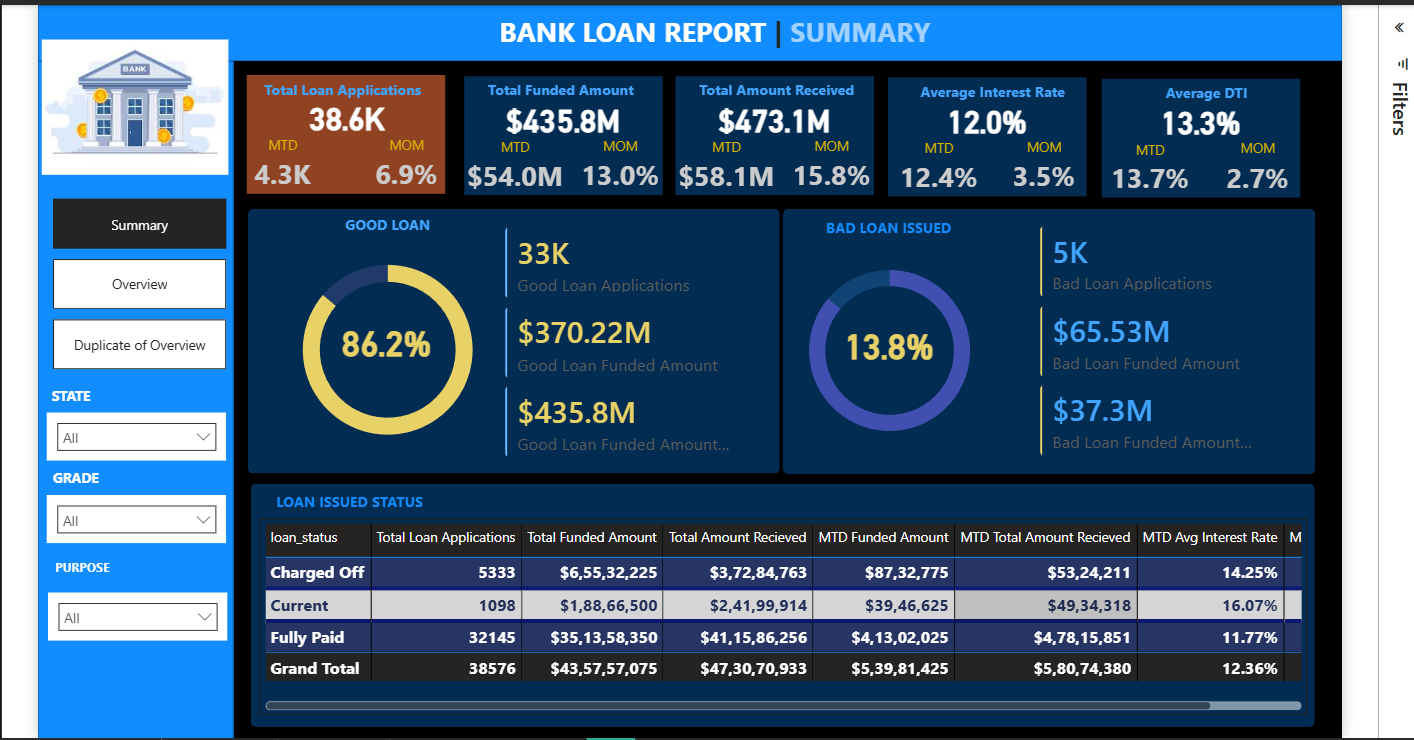

The page's visual inventory and layout, read from the dashboard file:
{"tool":"powerbi","page":{"name":"Summary","canvas":[1280,720],"ordinal":0},"visuals":[{"type":"shape","box":[0,0,1280.3,55],"z":0},{"type":"shape","box":[205.8,68.6,194.9,116.6],"z":0,"group":"g1"},{"type":"shape","box":[417.9,70.2,194.9,116.6],"z":0,"group":"g2"},{"type":"shape","box":[625.9,70.3,194.9,116.6],"z":0,"group":"g3"},{"type":"shape","box":[833.9,71.5,194.9,116.6],"z":0,"group":"g4"},{"type":"shape","box":[1044.8,72.7,194.9,116.6],"z":0,"group":"g5"},{"type":"shape","box":[0,54.9,192,665.5],"z":1000},{"type":"card","fields":{"Values":["bank_loan_data.Total Loan Applications"]},"box":[207.5,80.7,191.8,59.1],"z":1000,"group":"g1"},{"type":"card","fields":{"Values":["bank_loan_data.Total Funded Amount"]},"box":[419.1,82.2,191.8,59.1],"z":1000,"group":"g2"},{"type":"card","fields":{"Values":["bank_loan_data.Total Amount Recieved"]},"box":[627.1,82.3,191.8,59.1],"z":1000,"group":"g3"},{"type":"card","fields":{"Values":["bank_loan_data.Avg Interest Rate"]},"box":[835.1,83.5,191.8,59.1],"z":1000,"group":"g4"},{"type":"card","fields":{"Values":["bank_loan_data.Average DTI"]},"box":[1046,84.7,191.8,59.1],"z":1000,"group":"g5"},{"type":"textbox","box":[218.2,68.6,168.8,28.8],"z":2000,"group":"g1"},{"type":"textbox","box":[436.1,68.7,168.9,29],"z":2000,"group":"g2"},{"type":"textbox","box":[644.1,68.8,168.9,29],"z":2000,"group":"g3"},{"type":"textbox","box":[852.1,70,168.9,29],"z":2000,"group":"g4"},{"type":"textbox","box":[1063,71.2,168.9,29],"z":2000,"group":"g5"},{"type":"shape","box":[206.3,200.3,522,260],"z":2000},{"type":"card","title":"MTD","fields":{"Values":["bank_loan_data.MTD Loan Applications"]},"box":[191.8,127.7,97.7,60.3],"z":3000,"group":"g1"},{"type":"card","title":"MTD","fields":{"Values":["bank_loan_data.MTD Funded Amount"]},"box":[415.5,130.5,105,59.1],"z":3000,"group":"g2"},{"type":"card","title":"MTD","fields":{"Values":["bank_loan_data.MTD Total Amount Recieved"]},"box":[623.5,130.6,105,59.1],"z":3000,"group":"g3"},{"type":"card","title":"MTD","fields":{"Values":["bank_loan_data.MTD Avg Interest Rate"]},"box":[831.5,131.8,105,59.1],"z":3000,"group":"g4"},{"type":"card","title":"MTD","fields":{"Values":["bank_loan_data.MTD Average DTI"]},"box":[1039.5,133,105,59.1],"z":3000,"group":"g5"},{"type":"card","fields":{"Values":["bank_loan_data.Good Loan %"]},"box":[284.7,300.4,114.6,59.1],"z":3000},{"type":"card","title":"MOM","fields":{"Values":["bank_loan_data.MOM Loan Applications"]},"box":[313.7,127.7,97.7,60.3],"z":4000,"group":"g1"},{"type":"card","title":"MOM","fields":{"Values":["bank_loan_data.MOM Total Funded Amount"]},"box":[521.7,129.3,97.7,60.3],"z":4000,"group":"g2"},{"type":"card","title":"MOM","fields":{"Values":["bank_loan_data.MOM Total Amount Recieved"]},"box":[729.7,129.4,97.7,60.3],"z":4000,"group":"g3"},{"type":"card","title":"MOM","fields":{"Values":["bank_loan_data.MOM Avg Interest Rate"]},"box":[937.7,130.6,97.7,60.3],"z":4000,"group":"g4"},{"type":"card","title":"MOM","fields":{"Values":["bank_loan_data.MOM Average DTI"]},"box":[1148.6,131.8,97.7,60.3],"z":4000,"group":"g5"},{"type":"textbox","box":[259.4,201.5,168.9,29],"z":4000},{"type":"textbox","box":[447.3,2.7,447.3,49.4],"z":5000},{"type":"group","id":"g1","title":"Group 1","box":[191.8,68.6,219.6,119.4],"z":6000},{"type":"group","id":"g2","title":"Group 1","box":[415.5,68.7,203.9,120.9],"z":7000},{"type":"group","id":"g3","title":"Group 1","box":[623.5,68.8,203.9,120.6],"z":8000},{"type":"group","id":"g4","title":"Group 1","box":[831.5,70,203.9,120.6],"z":9000},{"type":"group","id":"g5","title":"Group 1","box":[1039.5,71.2,206.8,120.9],"z":10000},{"type":"shape","box":[731.1,200.3,522.4,260.6],"z":11000},{"type":"donutChart","fields":{"Category":["bank_loan_data.Good vs Bad Loan"],"Y":["bank_loan_data.Total Loan Applications"]},"box":[229.2,229.2,228,218.4],"z":12000},{"type":"cardVisual","fields":{"Data":["bank_loan_data.Good Loan Applications","bank_loan_data.Good Loan Funded Amount","bank_loan_data.Good Loan Funded Amount Recieved"]},"box":[441.6,201.5,287.1,260.6],"z":13000},{"type":"donutChart","fields":{"Category":["bank_loan_data.Good vs Bad Loan"],"Y":["bank_loan_data.Total Loan Applications"]},"box":[722.7,235.3,226.8,207.5],"z":14000},{"type":"textbox","box":[766.1,203.9,138.7,31.4],"z":15000},{"type":"card","fields":{"Values":["bank_loan_data.Bad Loan %"]},"box":[778.2,302.8,114.6,59.1],"z":16000},{"type":"cardVisual","fields":{"Data":["bank_loan_data.Bad Loan Applications","bank_loan_data.Bad Loan Funded Amount","bank_loan_data.Bad Loan Funded Amount Recieved"]},"box":[966.4,200.3,287.1,260.6],"z":17000},{"type":"shape","box":[208.7,470.5,1044.8,238.9],"z":18000},{"type":"tableEx","fields":{"Values":["bank_loan_data.loan_status","bank_loan_data.Total Loan Applications","bank_loan_data.Total Funded Amount","bank_loan_data.Total Amount Recieved","bank_loan_data.MTD Funded Amount","bank_loan_data.MTD Total Amount Recieved","bank_loan_data.MTD Avg Interest Rate","bank_loan_data.MTD Average DTI"]},"box":[217.2,504.3,1027.9,193],"z":19000},{"type":"textbox","box":[224.4,472.9,162.9,31.4],"z":20000},{"type":"slicer","fields":{"Values":["bank_loan_data.address_state"]},"box":[8.4,400.5,176.1,47.1],"z":21000},{"type":"textbox","box":[8.4,369.2,138.7,31.4],"z":22000},{"type":"slicer","fields":{"Values":["bank_loan_data.grade"]},"box":[8.4,481.4,176.1,47.1],"z":24000},{"type":"textbox","box":[9.7,450,138.7,31.4],"z":25000},{"type":"textbox","box":[8.4,536.9,138.7,31.4],"z":26000},{"type":"slicer","fields":{"Values":["bank_loan_data.purpose"]},"box":[9.7,576.7,176.1,47.1],"z":29000},{"type":"image","box":[3.7,30.7,182.8,138.7],"z":29001},{"type":"pageNavigator","box":[14.7,190.2,170.6,169.3],"z":29002}]}

Visuals, with their boxes on the page's 1280x720 design canvas (x1, y1, x2, y2). These are canvas units, not pixel positions in the 1414x740 screenshot, which may show the page scaled, cropped or inside an application window:
shape: (0, 0, 1280, 55)
shape: (206, 69, 401, 185)
shape: (418, 70, 613, 187)
shape: (626, 70, 821, 187)
shape: (834, 72, 1029, 188)
shape: (1045, 73, 1240, 189)
shape: (0, 55, 192, 720)
card - bank_loan_data.Total Loan Applications: (208, 81, 399, 140)
card - bank_loan_data.Total Funded Amount: (419, 82, 611, 141)
card - bank_loan_data.Total Amount Recieved: (627, 82, 819, 141)
card - bank_loan_data.Avg Interest Rate: (835, 84, 1027, 143)
card - bank_loan_data.Average DTI: (1046, 85, 1238, 144)
textbox: (218, 69, 387, 97)
textbox: (436, 69, 605, 98)
textbox: (644, 69, 813, 98)
textbox: (852, 70, 1021, 99)
textbox: (1063, 71, 1232, 100)
shape: (206, 200, 728, 460)
"MTD" card: (192, 128, 290, 188)
"MTD" card: (416, 130, 520, 190)
"MTD" card: (624, 131, 728, 190)
"MTD" card: (832, 132, 936, 191)
"MTD" card: (1040, 133, 1144, 192)
card - bank_loan_data.Good Loan %: (285, 300, 399, 360)
"MOM" card: (314, 128, 411, 188)
"MOM" card: (522, 129, 619, 190)
"MOM" card: (730, 129, 827, 190)
"MOM" card: (938, 131, 1035, 191)
"MOM" card: (1149, 132, 1246, 192)
textbox: (259, 202, 428, 230)
textbox: (447, 3, 895, 52)
"Group 1" group: (192, 69, 411, 188)
"Group 1" group: (416, 69, 619, 190)
"Group 1" group: (624, 69, 827, 189)
"Group 1" group: (832, 70, 1035, 191)
"Group 1" group: (1040, 71, 1246, 192)
shape: (731, 200, 1254, 461)
donutChart - bank_loan_data.Good vs Bad Loan x bank_loan_data.Total Loan Applications: (229, 229, 457, 448)
cardVisual - bank_loan_data.Good Loan Applications x bank_loan_data.Good Loan Funded Amount: (442, 202, 729, 462)
donutChart - bank_loan_data.Good vs Bad Loan x bank_loan_data.Total Loan Applications: (723, 235, 950, 443)
textbox: (766, 204, 905, 235)
card - bank_loan_data.Bad Loan %: (778, 303, 893, 362)
cardVisual - bank_loan_data.Bad Loan Applications x bank_loan_data.Bad Loan Funded Amount: (966, 200, 1254, 461)
shape: (209, 470, 1254, 709)
tableEx - bank_loan_data.loan_status x bank_loan_data.Total Loan Applications: (217, 504, 1245, 697)
textbox: (224, 473, 387, 504)
slicer - bank_loan_data.address_state: (8, 400, 184, 448)
textbox: (8, 369, 147, 401)
slicer - bank_loan_data.grade: (8, 481, 184, 528)
textbox: (10, 450, 148, 481)
textbox: (8, 537, 147, 568)
slicer - bank_loan_data.purpose: (10, 577, 186, 624)
image: (4, 31, 186, 169)
pageNavigator: (15, 190, 185, 360)
